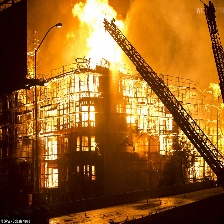fire: (12, 1, 223, 187)
